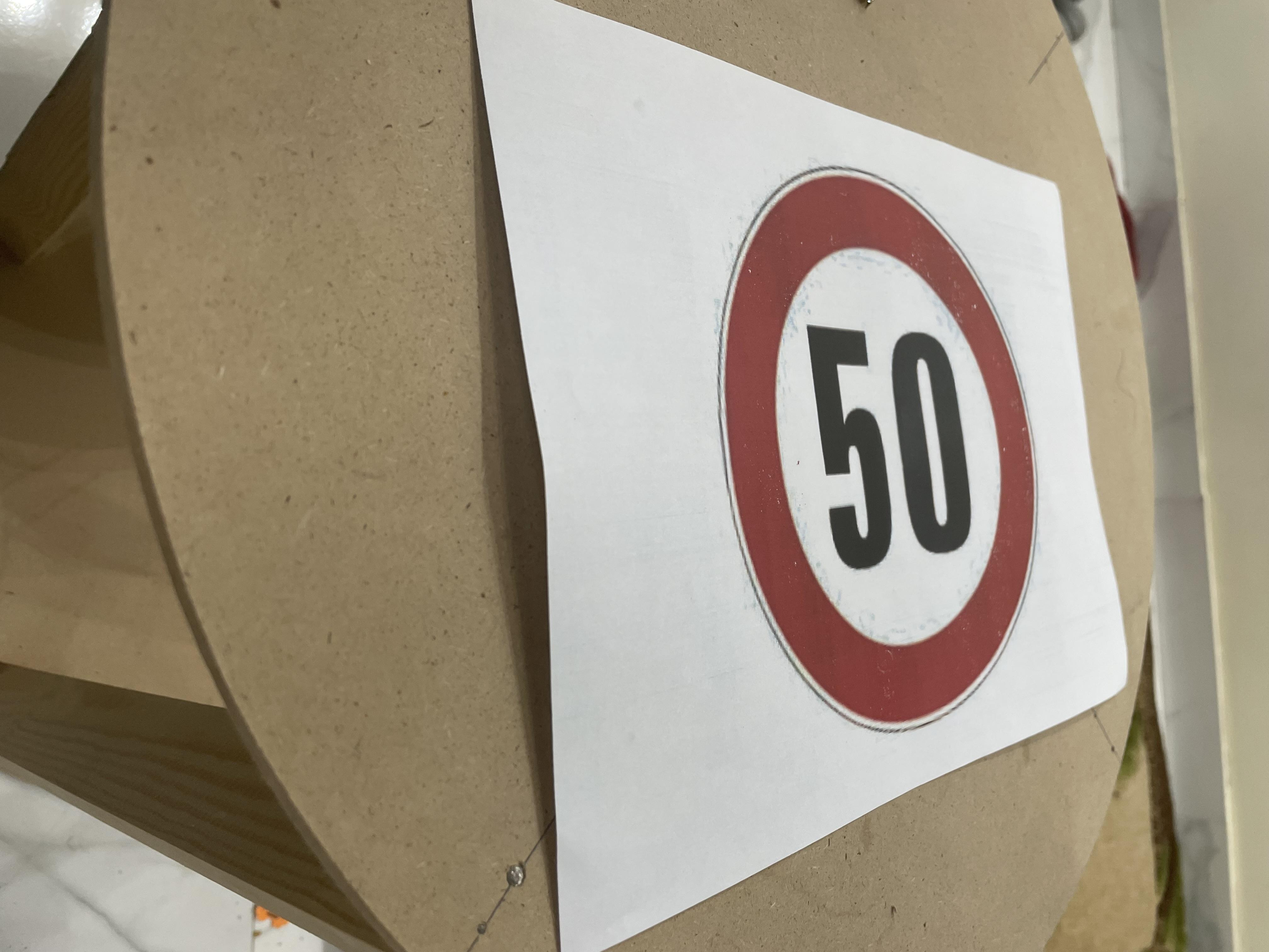50-Speed: (240, 163, 962, 405)
